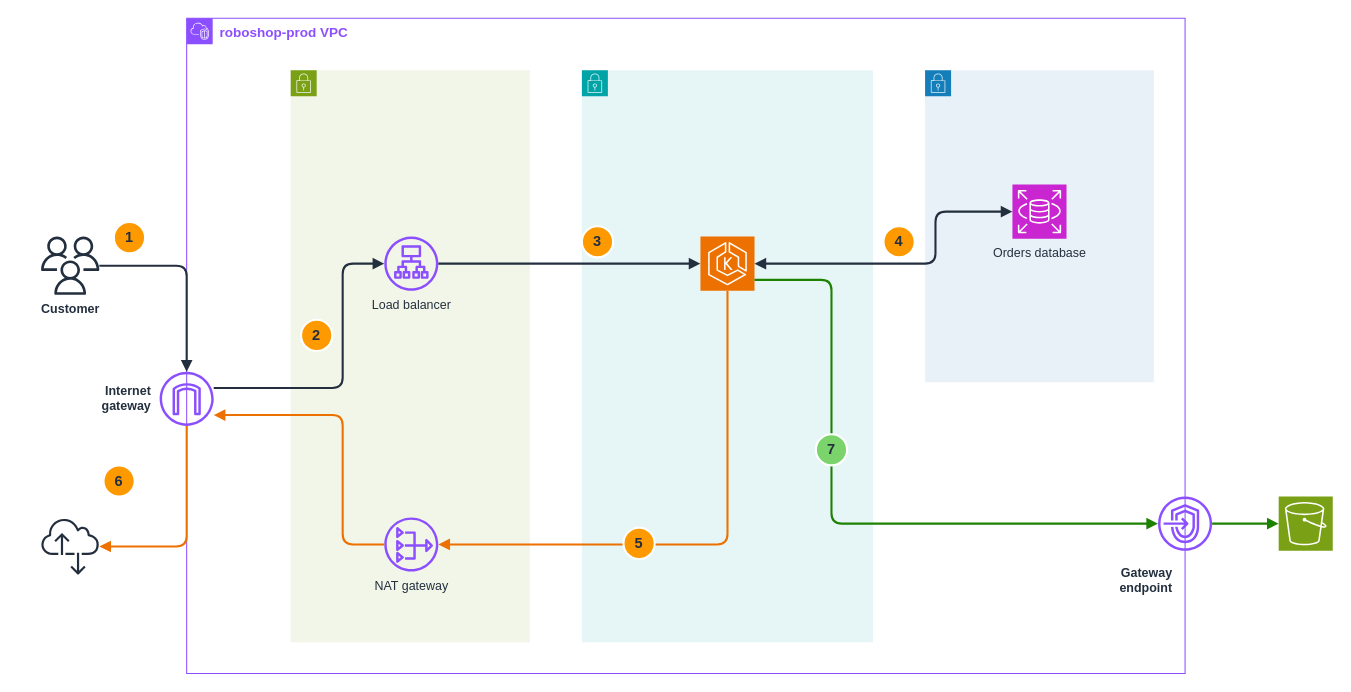
Some shapes in this 1351 by 692 pixel diagram are drawn without their labels. Each missing label, with the box of its shape:
Data subnet: (924, 69, 1154, 382)
Payment provider: (41, 517, 99, 575)
Private subnet: (581, 69, 873, 642)
Public subnet: (290, 69, 530, 642)
S3 receipts: (1278, 496, 1333, 551)
Shop app: (699, 236, 755, 291)
